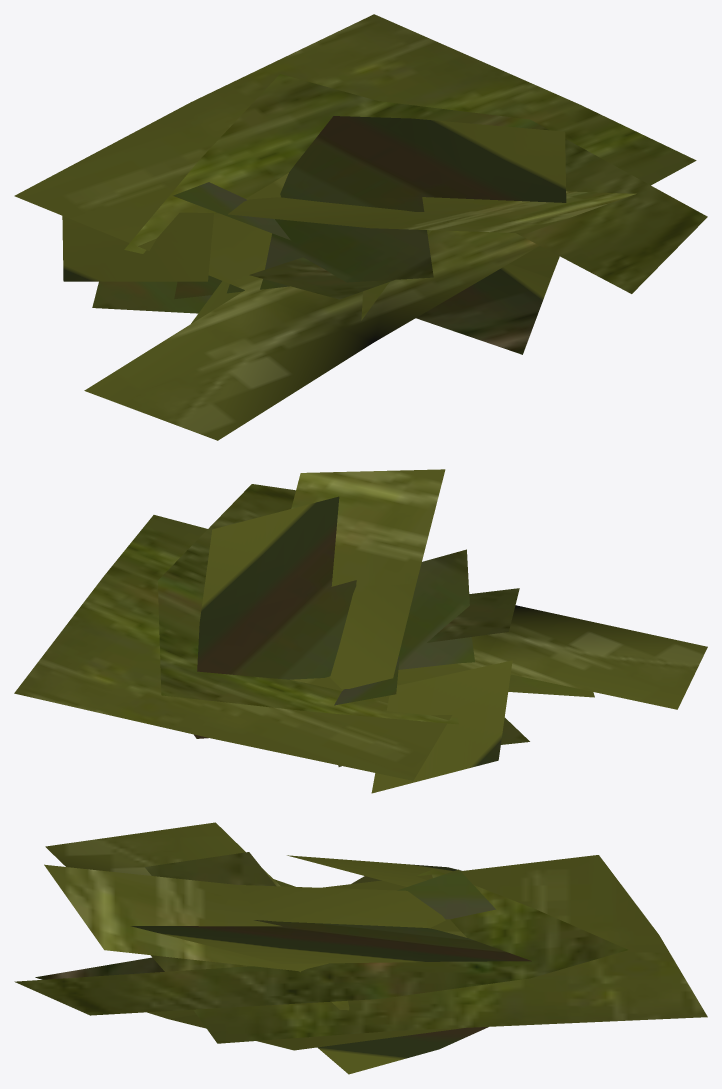
The model's file is Tufts_Close.glb.
3 renders of one model, top to bottom at view 1: azimuth 30°, elevation 25°; view 2: azimuth 150°, elevation 25°; view 3: azimuth 270°, elevation 25°, orthographic. The views are drawn at different scales.
Visible parts, largest first — view 1: Tuft_1, Tuft_4, Tuft_2, Tuft_3, Tuft_5, Tuft_0; view 2: Tuft_1, Tuft_4, Tuft_3, Tuft_2, Tuft_0; view 3: Tuft_1, Tuft_2, Tuft_3, Tuft_4, Tuft_0, Tuft_5.
Part boxes in pixels (left/top/right/bottom): Tuft_1: left=14, top=14, right=696, bottom=440; Tuft_4: left=174, top=116, right=566, bottom=299; Tuft_2: left=124, top=74, right=707, bottom=323; Tuft_3: left=62, top=191, right=636, bottom=281; Tuft_5: left=92, top=246, right=559, bottom=354; Tuft_0: left=173, top=182, right=393, bottom=299; Tuft_1: left=14, top=515, right=707, bottom=780; Tuft_4: left=197, top=496, right=474, bottom=766; Tuft_3: left=291, top=469, right=512, bottom=793; Tuft_2: left=158, top=484, right=594, bottom=724; Tuft_0: left=334, top=588, right=519, bottom=705; Tuft_1: left=45, top=822, right=707, bottom=1043; Tuft_2: left=14, top=869, right=627, bottom=1015; Tuft_3: left=44, top=855, right=461, bottom=1010; Tuft_4: left=131, top=920, right=531, bottom=963; Tuft_0: left=145, top=852, right=495, bottom=1074; Tuft_5: left=35, top=876, right=463, bottom=1050.
Bounding box in the file's own units: 5.1 × 1.05 × 4.95.
Materials: 1 (1 with a texture image).
